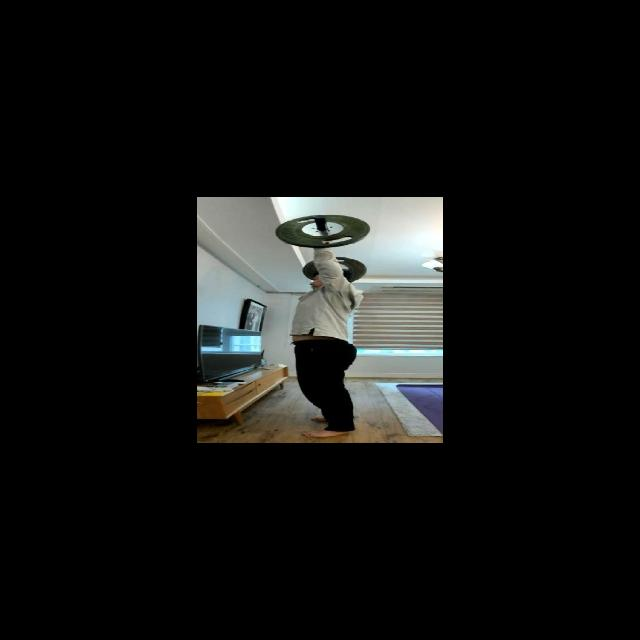barbell: (273, 212, 373, 249)
